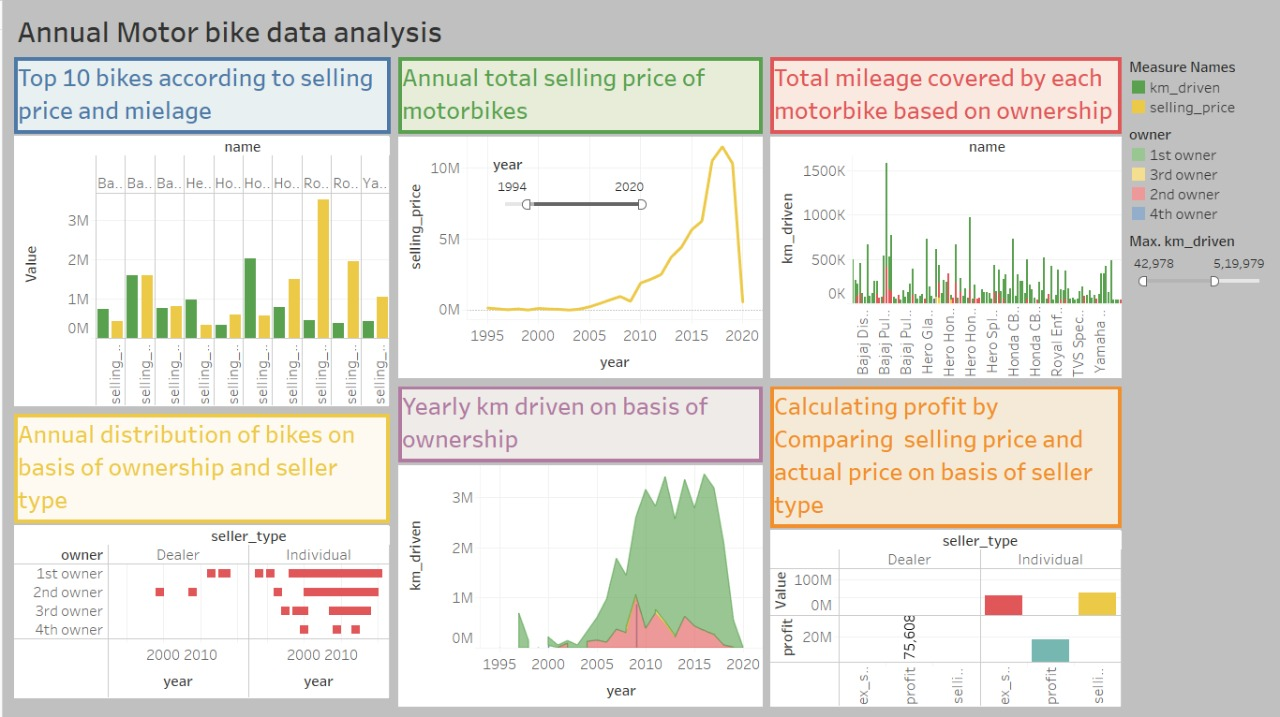

The page's visual inventory and layout, read from the dashboard file:
{"tool":"tableau","page":{"name":"Annual Motorbike data analysis","canvas":[1366,768],"ordinal":0},"visuals":[{"type":"worksheet","box":[0,0,1366,768]},{"type":"worksheet","param":"vert","box":[8,8,1350,752]},{"type":"worksheet","box":[8,8,1350,49]},{"type":"worksheet","param":"horz","box":[8,57,1350,703]},{"type":"worksheet","box":[8,57,1190,703]},{"type":"worksheet","title":"Top 10 bikes according to selling price","mark":"Automatic","cols":["name"],"box":[8,57,410,381]},{"type":"worksheet","title":"Annual Total selling price","mark":"Line","rows":["selling_price"],"cols":["year"],"box":[418,57,397,351.5]},{"type":"worksheet","title":"Total milage covered","mark":"Automatic","rows":["km_driven"],"cols":["name"],"box":[815,57,383,351.5]},{"type":"worksheet","param":"vert","box":[1198,57,160,703]},{"type":"worksheet","title":"Top 10 bikes according to selling price","mark":"Automatic","cols":["name"],"param":"[federated.0hsxlot15jgwqq11qs91e1k68fuj].[:Measure Names]","box":[1198,57,160,72]},{"type":"worksheet","title":"yearly km driven on basis of ownership","mark":"Area","rows":["km_driven"],"cols":["year"],"param":"[federated.0hsxlot15jgwqq11qs91e1k68fuj].[none:owner:nk]","box":[1198,129,160,114]},{"type":"worksheet","title":"Annual Total selling price","mark":"Line","rows":["selling_price"],"cols":["year"],"param":"[federated.0hsxlot15jgwqq11qs91e1k68fuj].[none:year:qk]","box":[523,165,168,69]},{"type":"worksheet","title":"Total milage covered","mark":"Automatic","rows":["km_driven"],"cols":["name"],"param":"[federated.0hsxlot15jgwqq11qs91e1k68fuj].[max:km_driven:qk]","box":[1198,243,160,73]},{"type":"worksheet","title":"yearly km driven on basis of ownership","mark":"Area","rows":["km_driven"],"cols":["year"],"box":[418,408.5,397,351.5]},{"type":"worksheet","title":"Comparison of selling price and showroom price basis of seller type","mark":"Automatic","rows":["Calculation_726486947897581569"],"cols":["seller_type"],"box":[815,408.5,383,351.5]},{"type":"worksheet","title":"Annual distribution basis of ownerdhip and sellertype","mark":"Square","rows":["owner"],"cols":["seller_type","year"],"box":[8,438,410,322]}]}

Visuals, with their boxes in screenshot pixels (x1, y1, x2, y2), scaled from the page's 1366x768 canvas onto the 1280x717 screenshot:
worksheet: BBox(0, 0, 1279, 716)
worksheet: BBox(7, 7, 1273, 710)
worksheet: BBox(7, 7, 1273, 53)
worksheet: BBox(7, 53, 1273, 710)
worksheet: BBox(7, 53, 1123, 710)
"Top 10 bikes according to selling price" worksheet: BBox(7, 53, 392, 409)
"Annual Total selling price" worksheet (Line marks): BBox(392, 53, 764, 381)
"Total milage covered" worksheet: BBox(764, 53, 1123, 381)
worksheet: BBox(1123, 53, 1273, 710)
"Top 10 bikes according to selling price" worksheet: BBox(1123, 53, 1273, 120)
"yearly km driven on basis of ownership" worksheet (Area marks): BBox(1123, 120, 1273, 227)
"Annual Total selling price" worksheet (Line marks): BBox(490, 154, 647, 218)
"Total milage covered" worksheet: BBox(1123, 227, 1273, 295)
"yearly km driven on basis of ownership" worksheet (Area marks): BBox(392, 381, 764, 710)
"Comparison of selling price and showroom price basis of seller type" worksheet: BBox(764, 381, 1123, 710)
"Annual distribution basis of ownerdhip and sellertype" worksheet (Square marks): BBox(7, 409, 392, 710)
